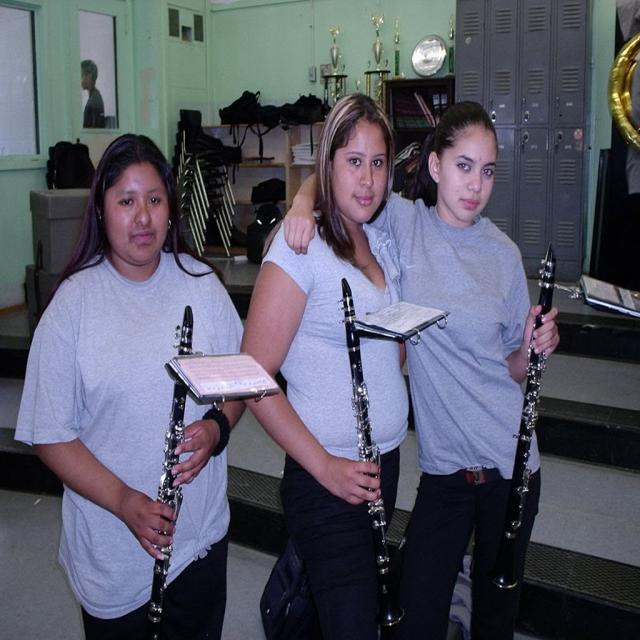clarinet: (339, 277, 416, 638), (489, 240, 562, 592), (140, 304, 200, 639)
